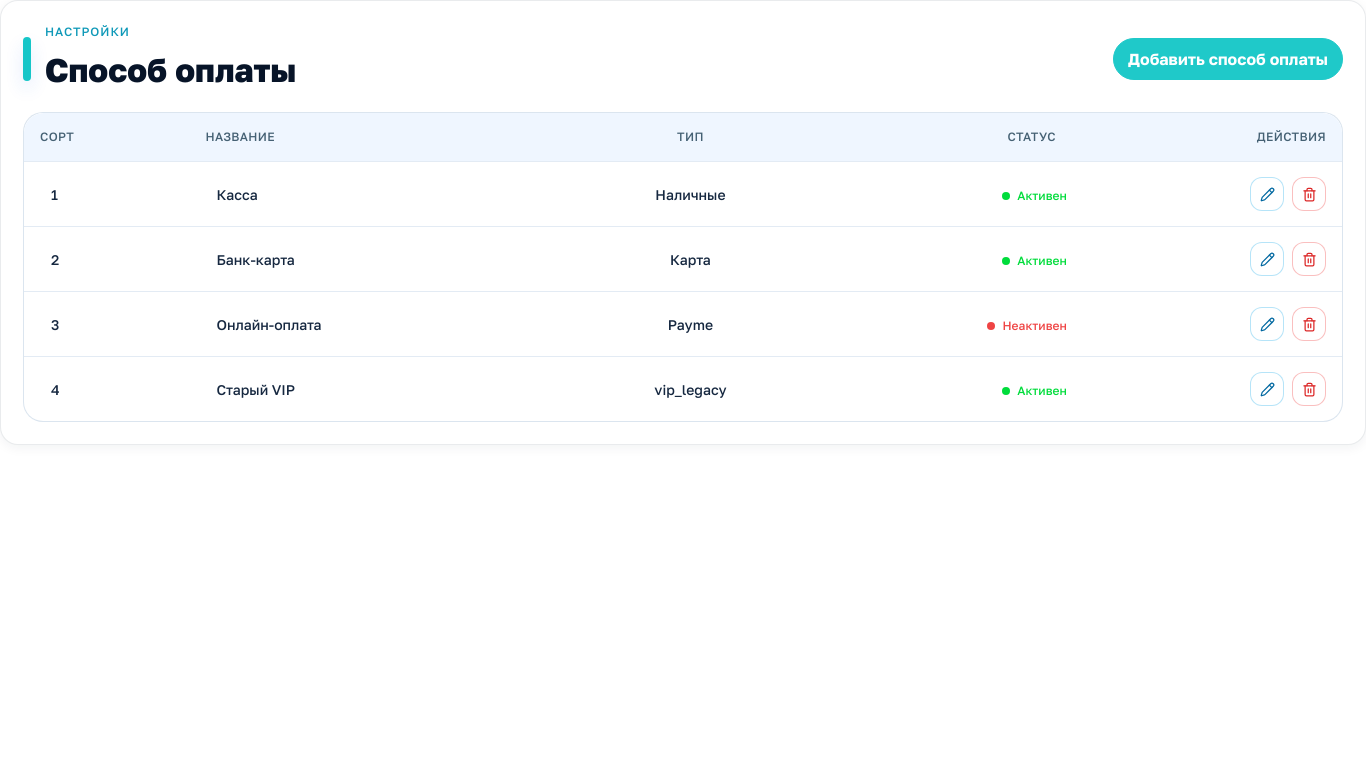
Test: SettingsPaymentMethodsPage — create & edit › normal edit dropdown offers exactly [Наличные, Карта, Другое]
The image size is (1366, 768).
Check: the text "Касса" is shown, box [190,161,560,226]
Click the button named "Редактировать".
click(1267, 259)  # box [1250,242,1284,276]
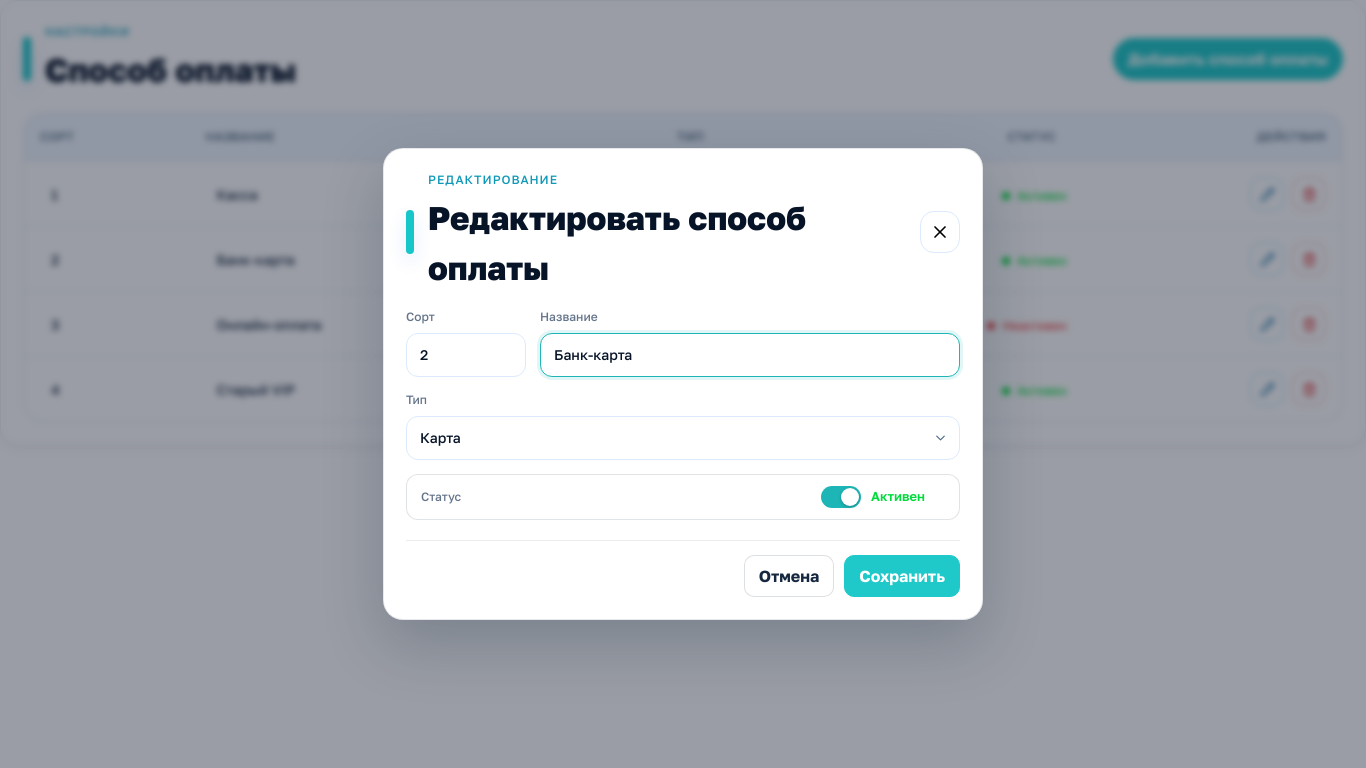
Click the dropdown named "Тип".
click(440, 438)  # box [406,416,960,460]
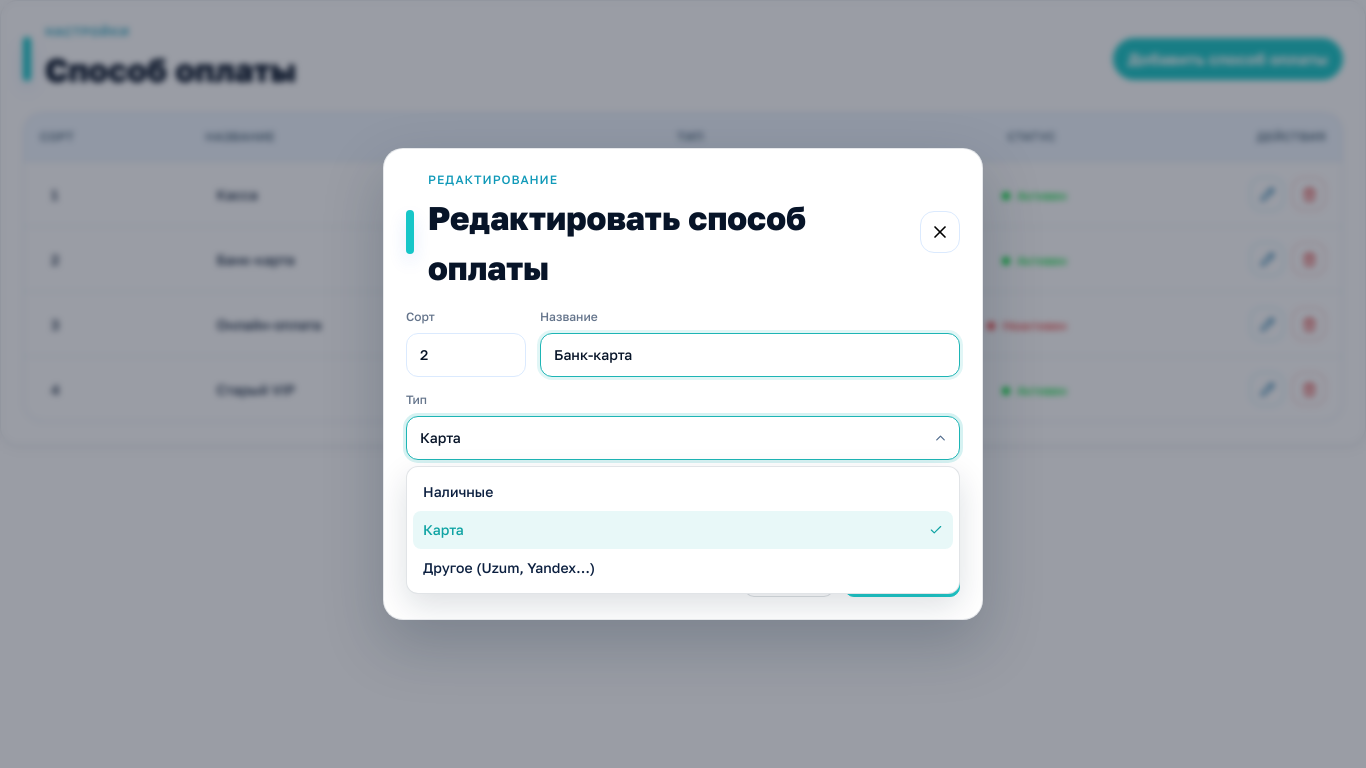
Check: the options read "Наличные", "Карта", "Другое (Uzum, Yandex…)", in this order, box [413,473,953,511]; [413,511,953,549]; [413,549,953,587]
